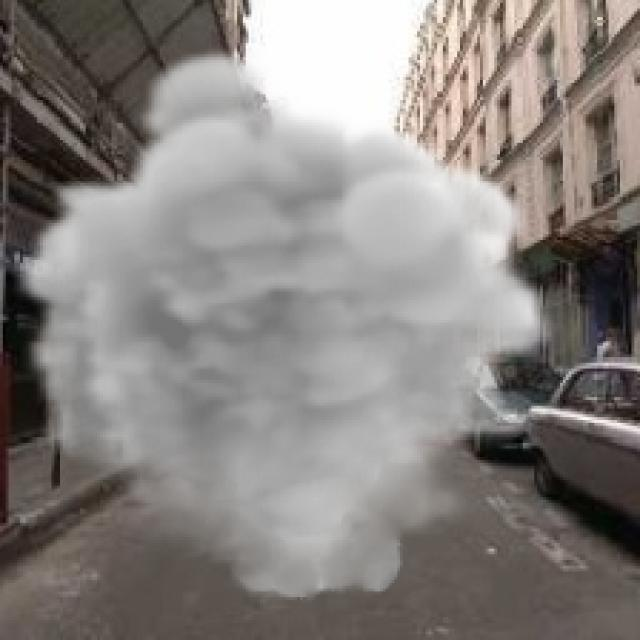Smoke: (14, 43, 557, 603)
